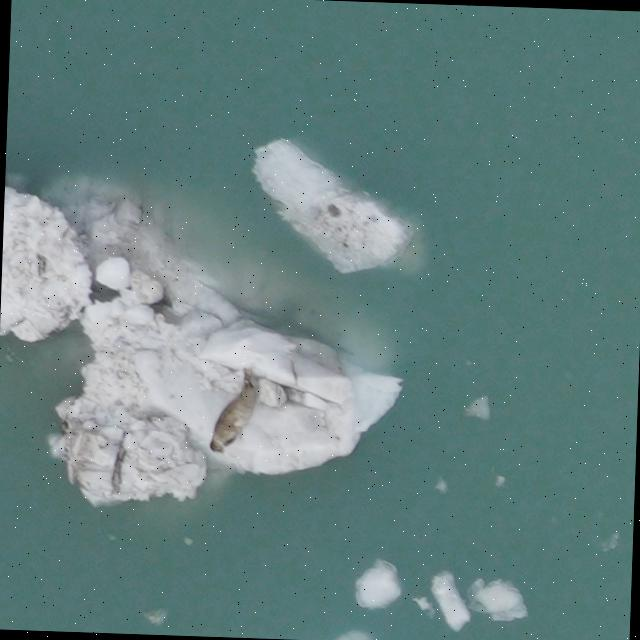seal: (207, 362, 264, 456)
